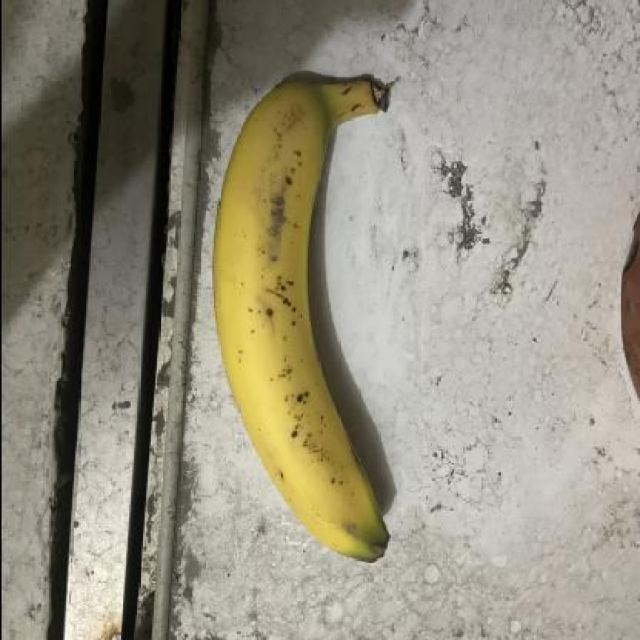banana: (212, 68, 400, 570)
